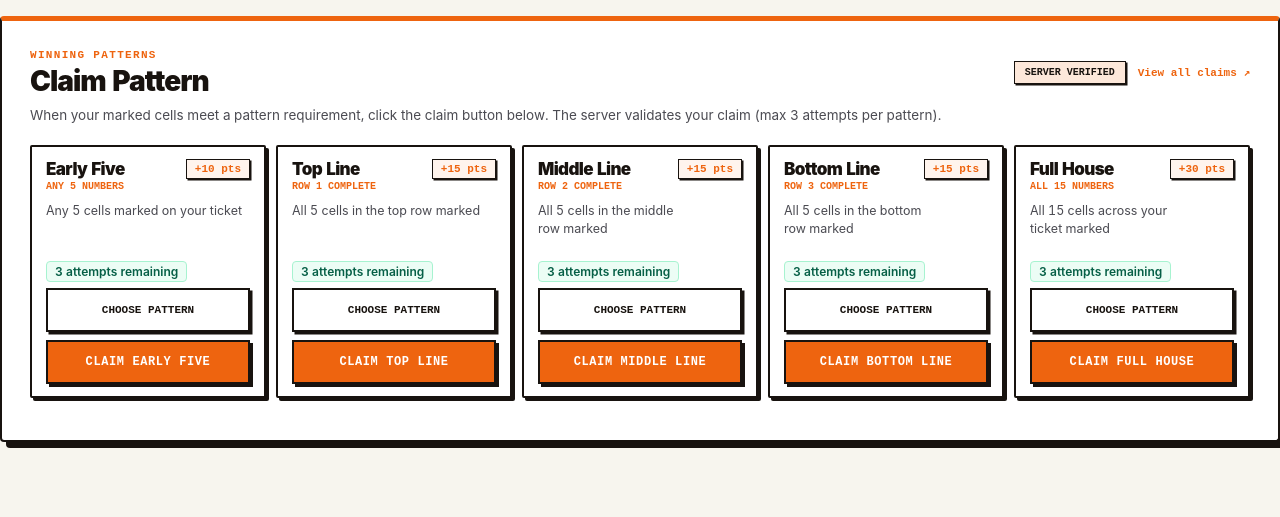
Test case: participant claims › uses generic server rejection text without evaluating ticket eligibility
The image size is (1280, 517).
Step 1. Click the button "Claim Early Five" → x=148, y=362, box [46, 340, 250, 384]
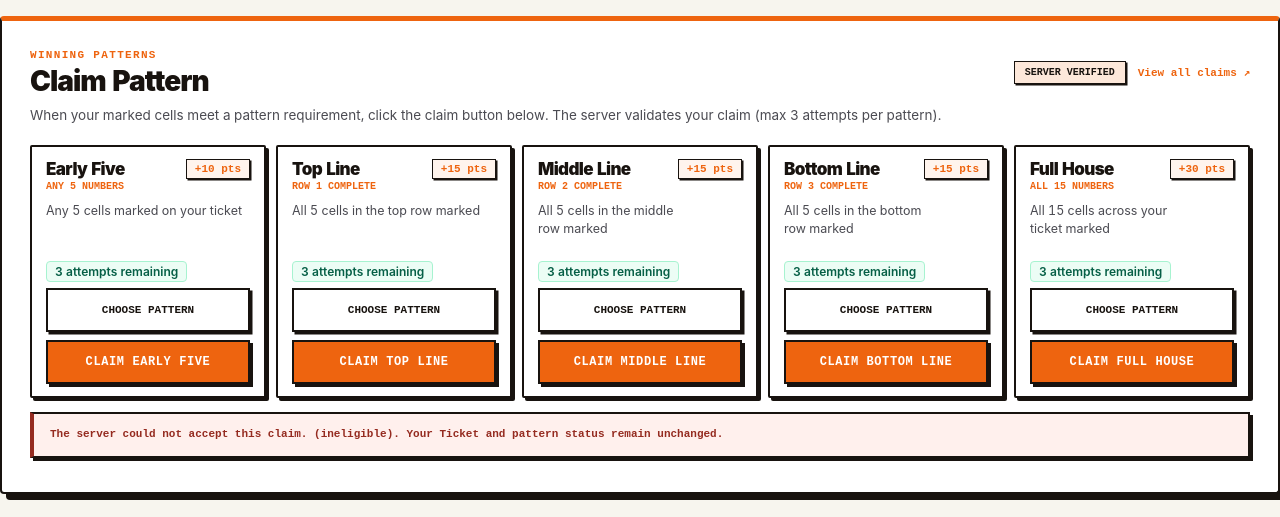
Expected: the message shows "server could not accept this claim", [50, 428, 723, 440]
